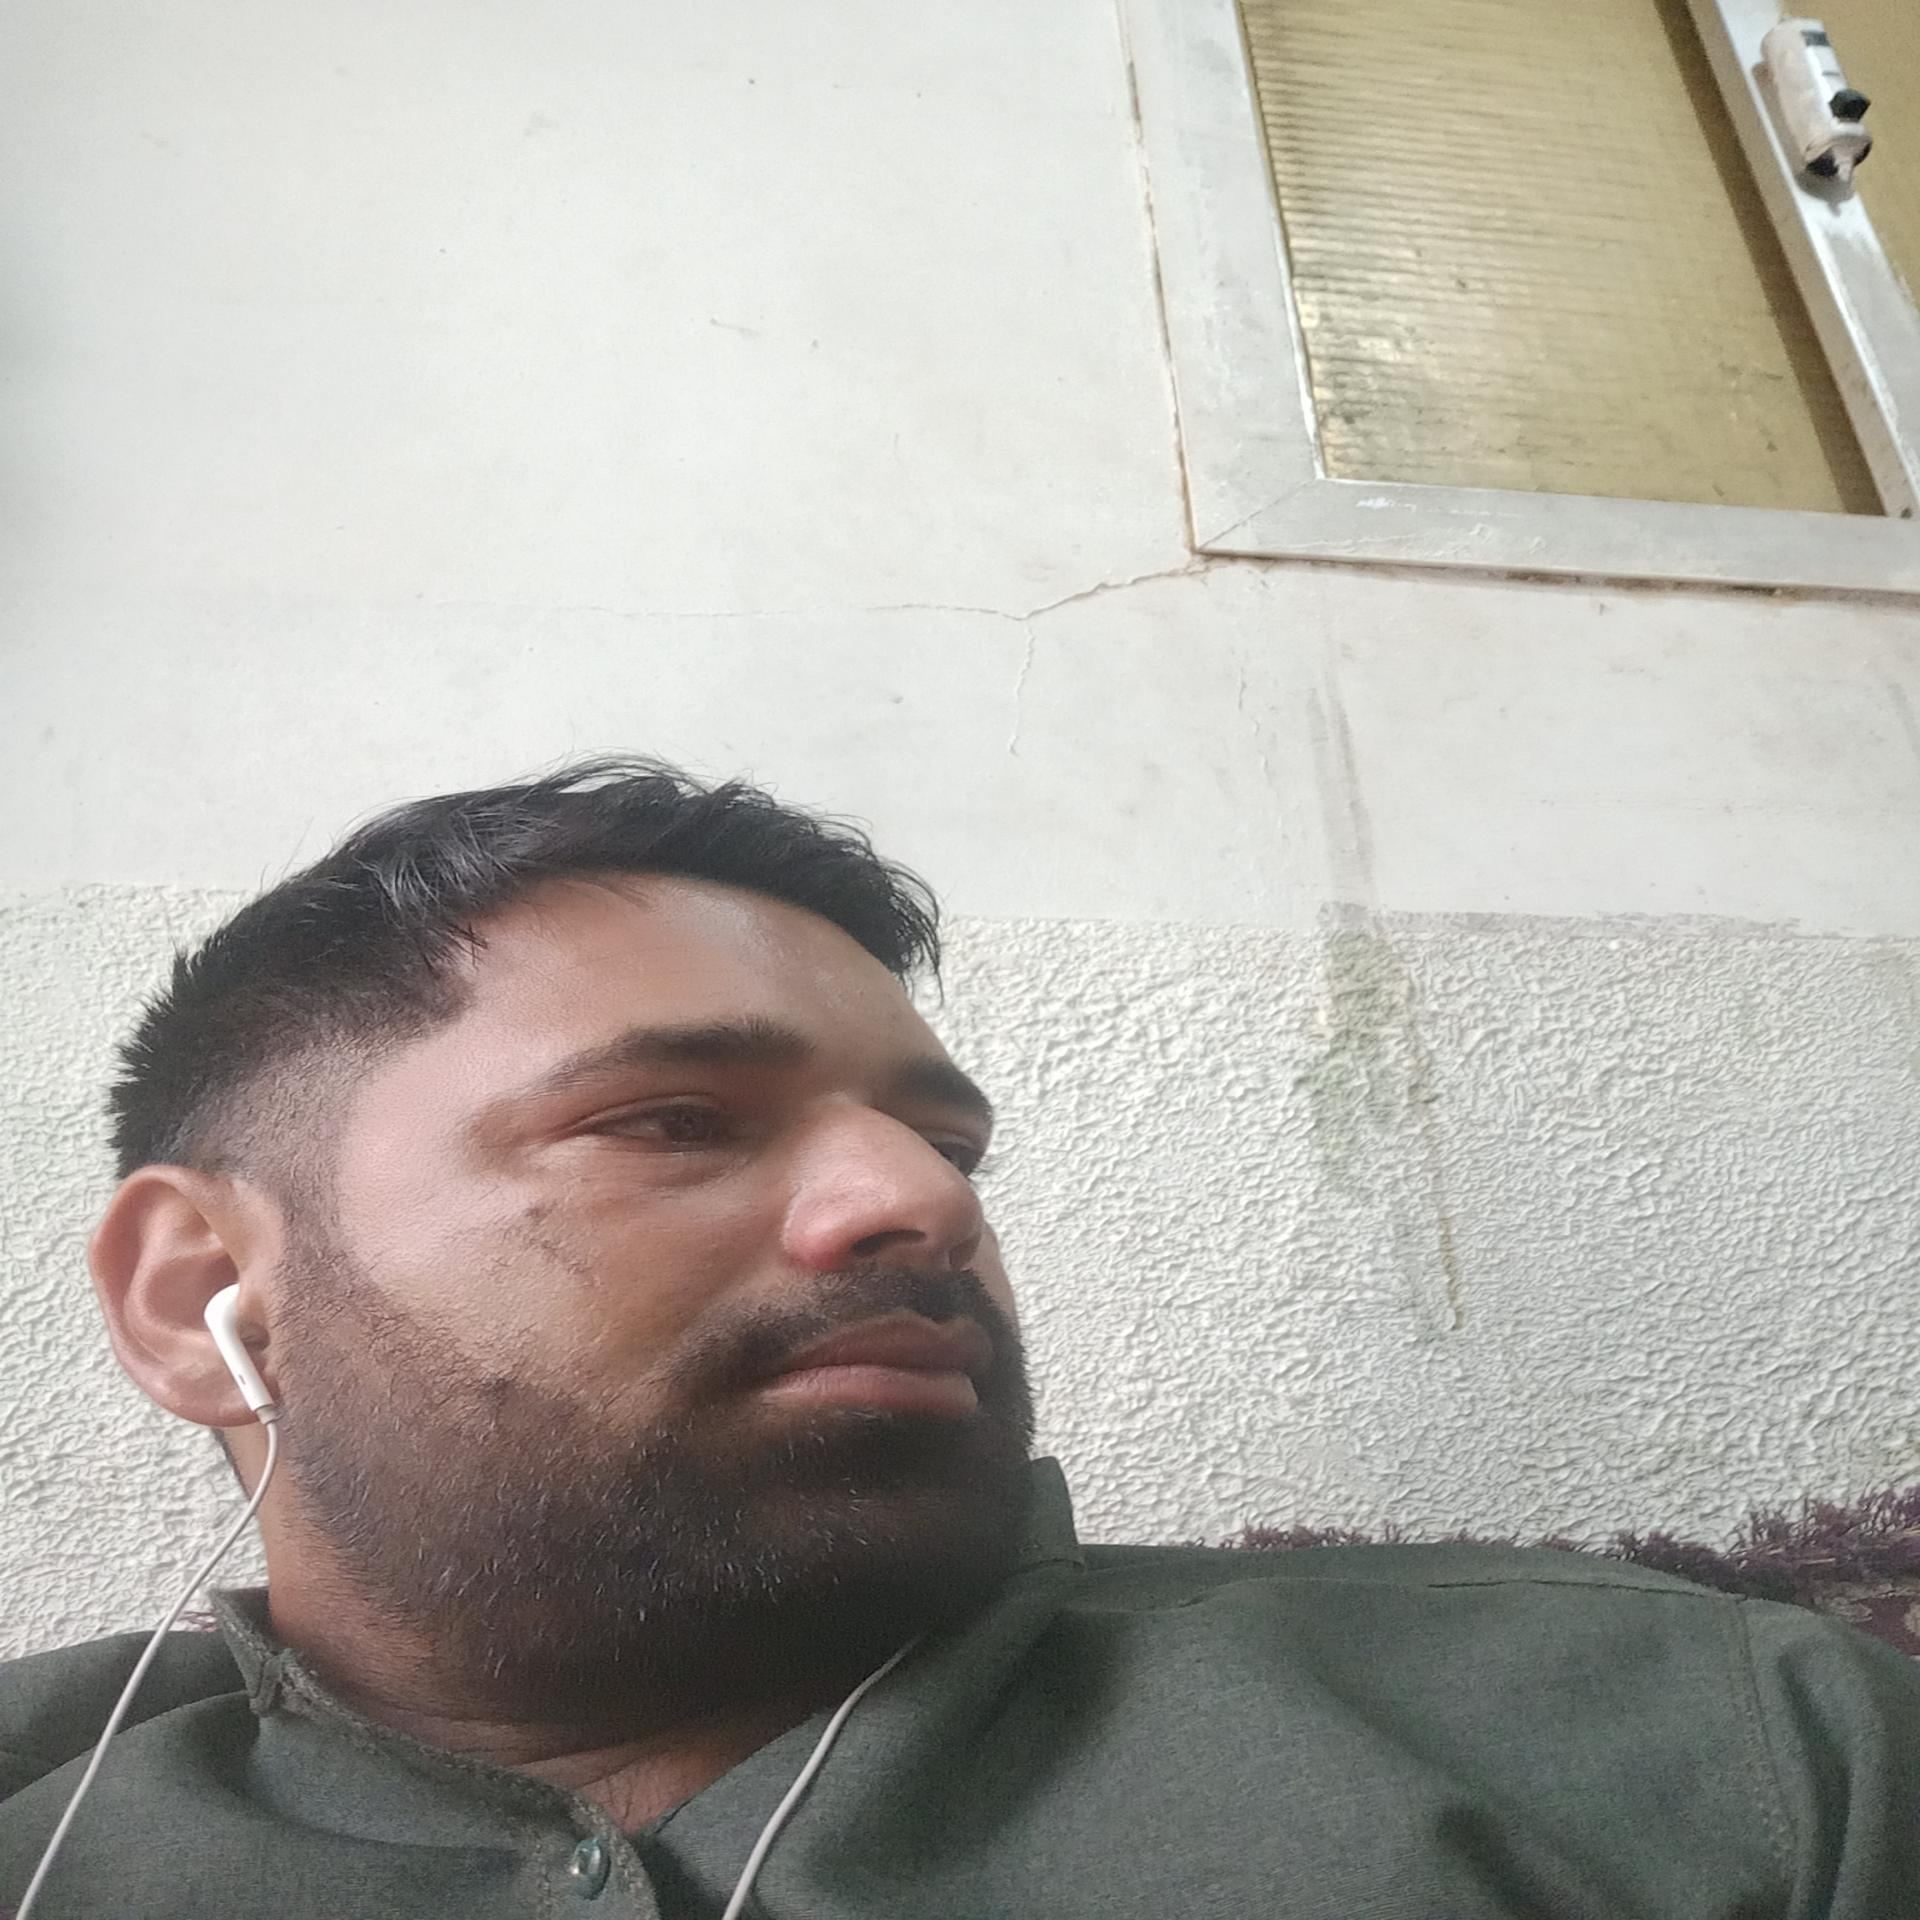Acne: (527, 1236, 601, 1289), (512, 1196, 564, 1224)
Englarged Pores: (795, 1131, 851, 1197)
Wrinkles: (635, 1247, 754, 1377), (552, 937, 700, 979), (566, 969, 738, 1002), (424, 1159, 519, 1182), (415, 1143, 542, 1155), (471, 1178, 505, 1203)
